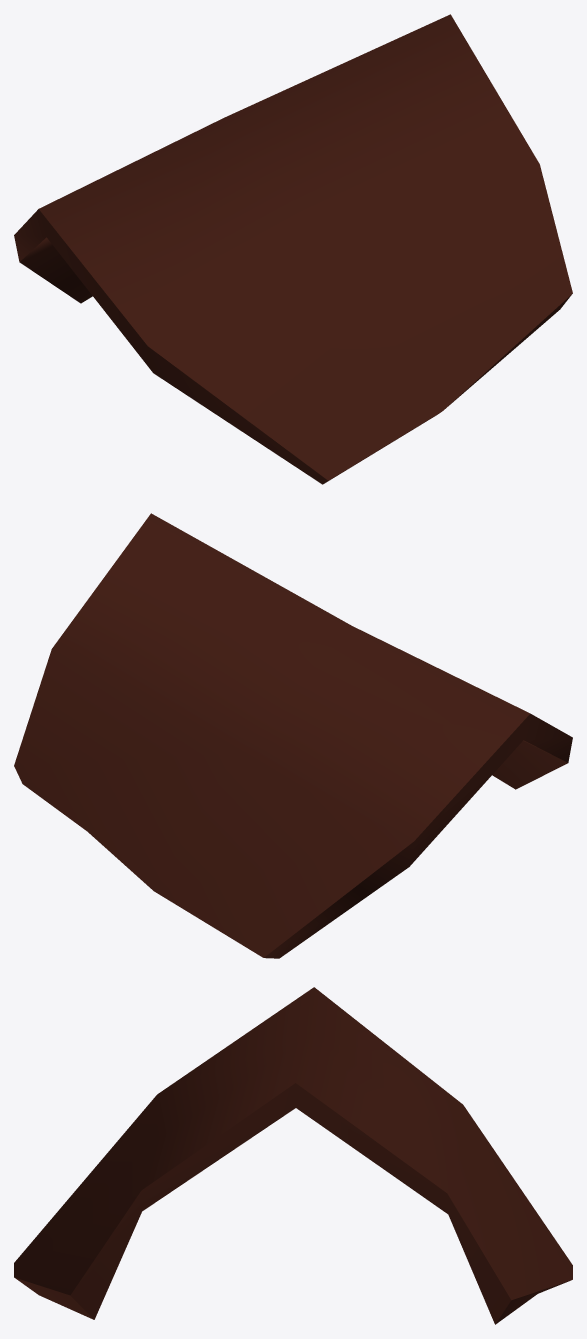
The model's file is Shoulder_2_R.fbx.
3 views of the same model, one above another, from view 1: azimuth 30°, elevation 25°; view 2: azimuth 150°, elevation 25°; view 3: azimuth 270°, elevation 25° (orthographic). The views are drawn at different scales.
Visible parts, largest first — view 1: Shoulder_2_R; view 2: Shoulder_2_R; view 3: Shoulder_2_R.
Boxes of the visible parts, x1,y1,x2,y2 form: Shoulder_2_R: [14, 14, 572, 484]; Shoulder_2_R: [14, 513, 572, 958]; Shoulder_2_R: [14, 987, 572, 1324].
Size of the model in its own units: 22.2 by 15.28 by 23.86.
